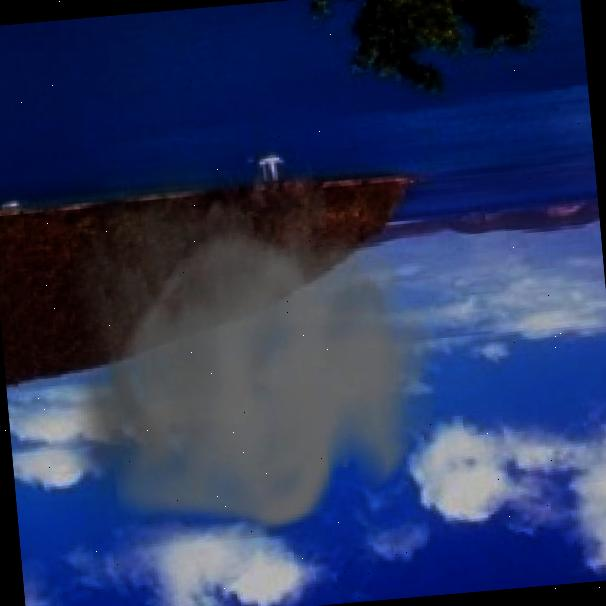smoke: (34, 107, 452, 554)
